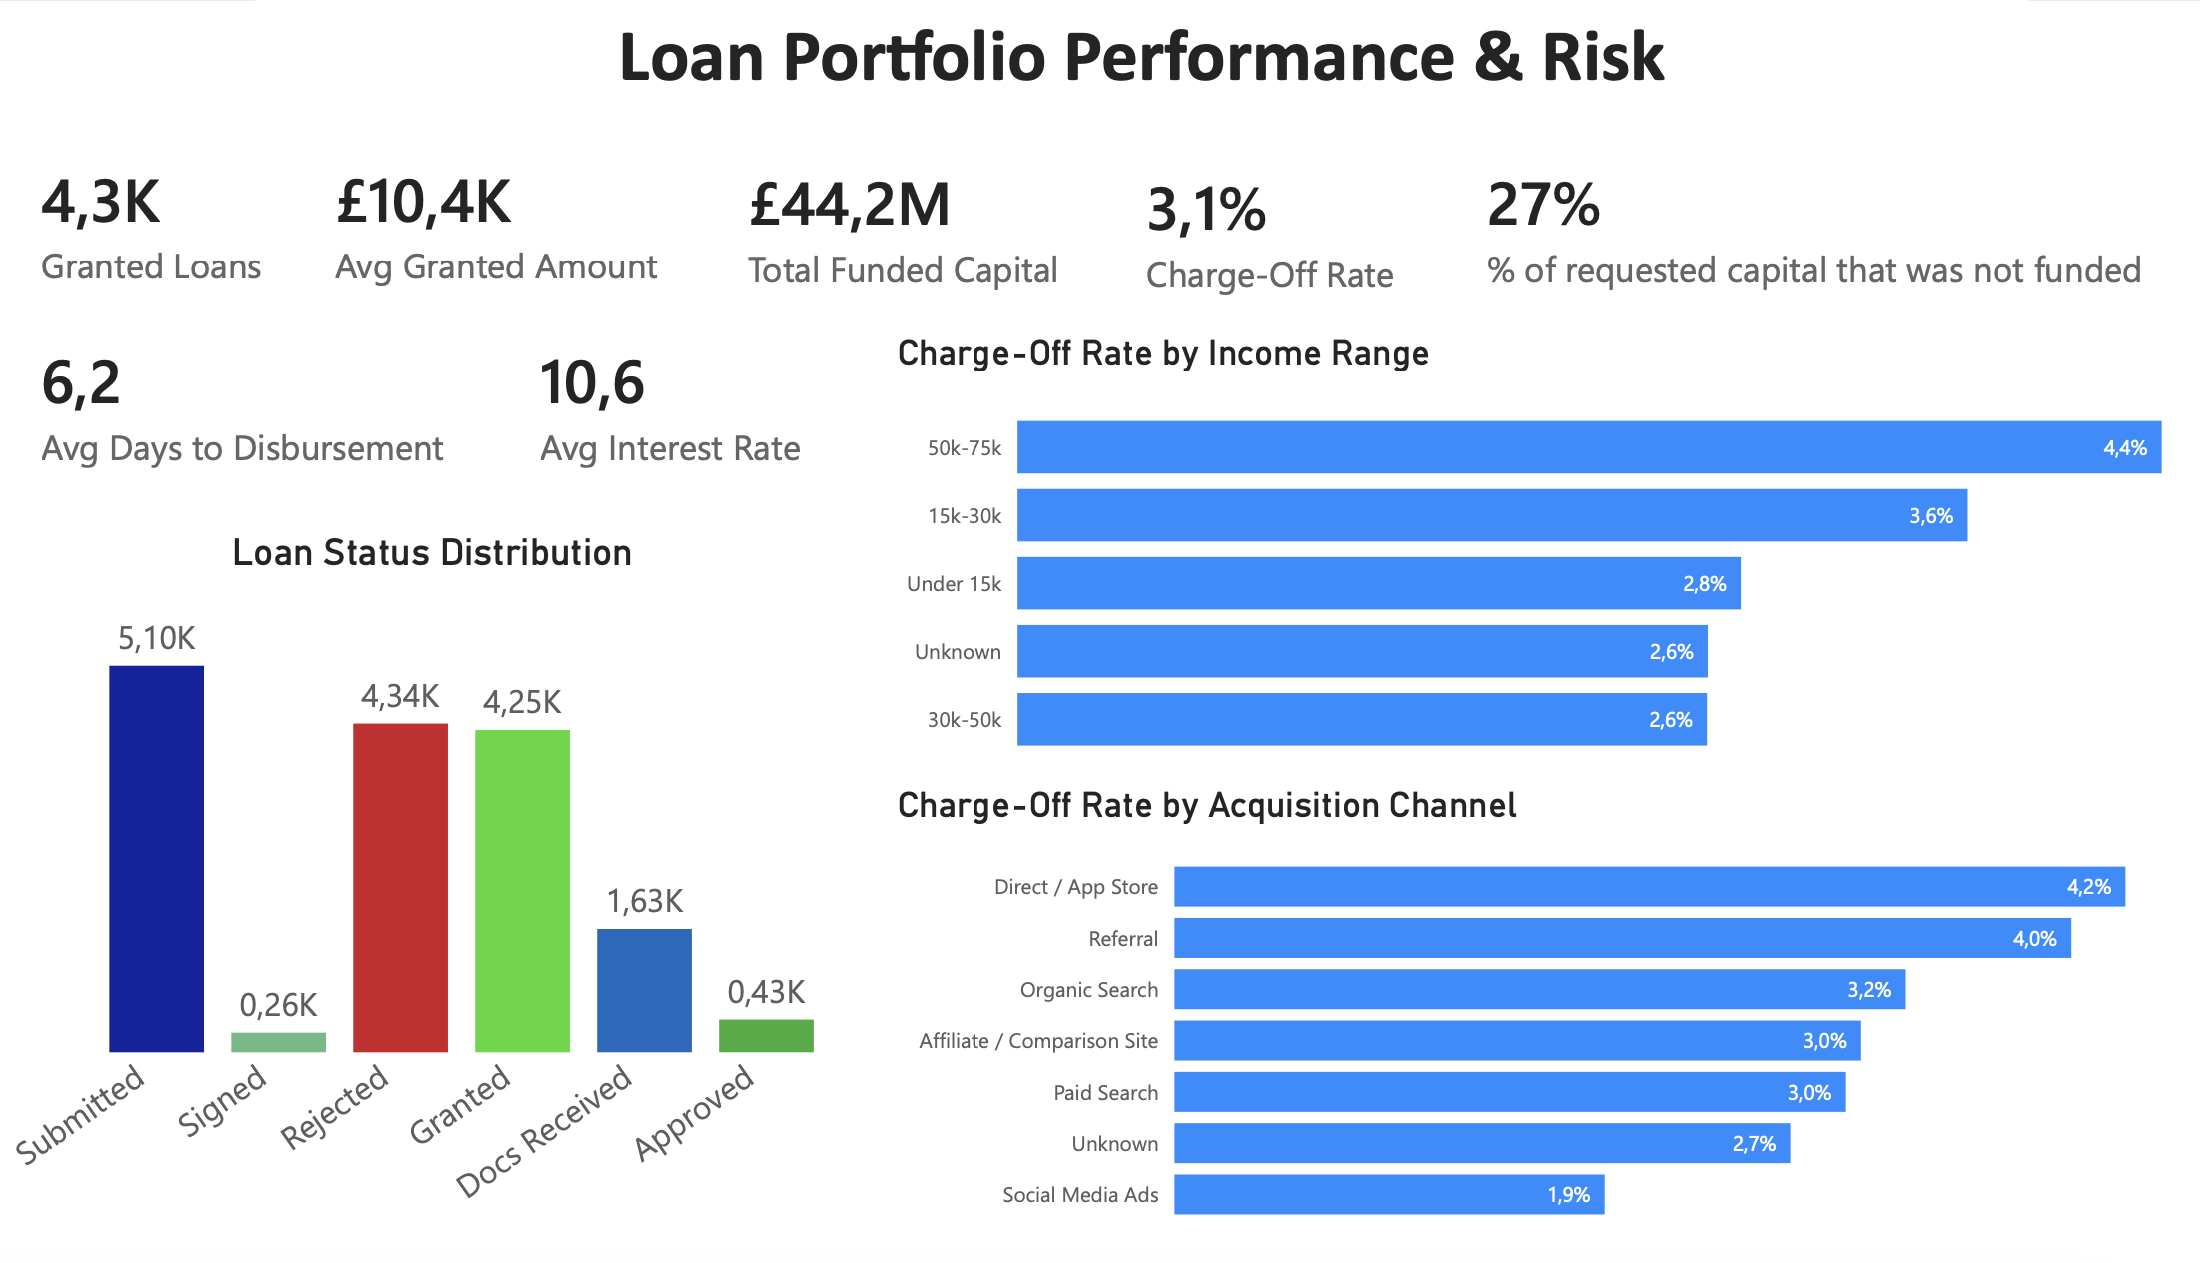

What the dashboard file says about the page in this screenshot:
{"tool":"powerbi","page":{"name":"Performance & Risk","canvas":[1280,720],"ordinal":2},"visuals":[{"type":"barChart","title":"Charge-Off Rate by Acquisition Channel","fields":{"Category":["loan_applications_updated.acquisition_channel"],"Y":["loan_outcomes_clean.Charge-Off Rate"]},"box":[520.4,453.6,759,267.4],"z":0},{"type":"barChart","title":"Charge-Off Rate by Income Range","fields":{"Y":["loan_outcomes_clean.Charge-Off Rate"],"Category":["users_clean.income_range"]},"box":[520.4,191.5,759,262],"z":1000},{"type":"columnChart","title":"Loan Status Distribution","fields":{"Category":["loan_outcomes_clean.loan_status"],"Y":["CountNonNull(loan_outcomes_clean.loan_id)"]},"box":[0,307.2,511.4,413.8],"z":2000},{"type":"cardVisual","fields":{"Data":["loan_outcomes_clean.Granted Loans Lo"]},"box":[0,71.9,204.3,112.7],"z":3000},{"type":"cardVisual","fields":{"Data":["loan_outcomes_clean.Charge-Off Rate"]},"box":[639.7,74.1,202.4,117.5],"z":4000},{"type":"cardVisual","fields":{"Data":["loan_outcomes_clean.Avg Granted Amount"]},"box":[169.9,65.1,247.6,126.5],"z":5000},{"type":"cardVisual","fields":{"Data":["loan_outcomes_clean.Avg Interest Rate"]},"box":[289.2,174.8,219,117.7],"z":6000},{"type":"textbox","box":[153.3,0,1027.2,68],"z":7000},{"type":"cardVisual","fields":{"Data":["application_events_clean.Avg Time to Disbursement"]},"box":[0,174.8,294.1,117.7],"z":8000},{"type":"cardVisual","fields":{"Data":["loan_outcomes_clean.Funded Capital"]},"box":[408.5,71.9,258.2,116],"z":9000},{"type":"cardVisual","fields":{"Data":["loan_applications_updated.Capital Lost %"]},"box":[836.6,71.9,442.8,116],"z":10000}]}

Visuals, with their boxes in screenshot pixels (x1, y1, x2, y2), scaled from the page's 1280x720 canvas onto the 2200x1263 screenshot:
"Charge-Off Rate by Acquisition Channel" barChart: [x1=894, y1=796, x2=2199, y2=1262]
"Charge-Off Rate by Income Range" barChart: [x1=894, y1=336, x2=2199, y2=796]
"Loan Status Distribution" columnChart: [x1=0, y1=539, x2=879, y2=1262]
cardVisual - loan_outcomes_clean.Granted Loans Lo: [x1=0, y1=126, x2=351, y2=324]
cardVisual - loan_outcomes_clean.Charge-Off Rate: [x1=1099, y1=130, x2=1447, y2=336]
cardVisual - loan_outcomes_clean.Avg Granted Amount: [x1=292, y1=114, x2=718, y2=336]
cardVisual - loan_outcomes_clean.Avg Interest Rate: [x1=497, y1=307, x2=873, y2=513]
textbox: [x1=263, y1=0, x2=2029, y2=119]
cardVisual - application_events_clean.Avg Time to Disbursement: [x1=0, y1=307, x2=505, y2=513]
cardVisual - loan_outcomes_clean.Funded Capital: [x1=702, y1=126, x2=1146, y2=330]
cardVisual - loan_applications_updated.Capital Lost %: [x1=1438, y1=126, x2=2199, y2=330]
